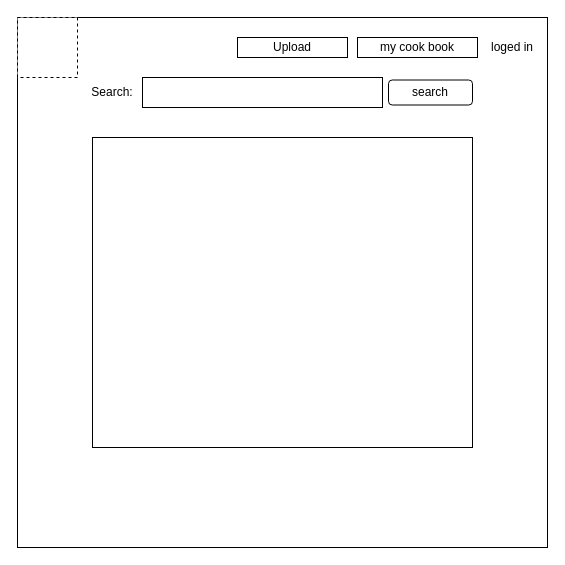
This 565x565 diagram has some shape labels left out. Here are the shapes that lost their labels. From the top down, the centre of each, then its label:
the point at 47,47: Logo
the point at 282,292: user feed
